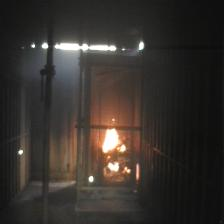fire: (99, 126, 124, 173)
